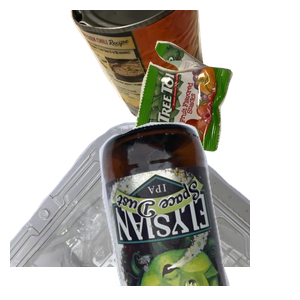glass: (97, 120, 300, 300)
metal: (68, 10, 265, 131)
plastic: (10, 120, 250, 300)
trash: (131, 38, 300, 182)
